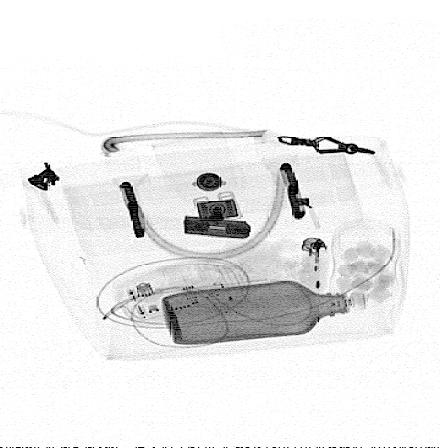Lighter: (299, 236, 329, 291)
